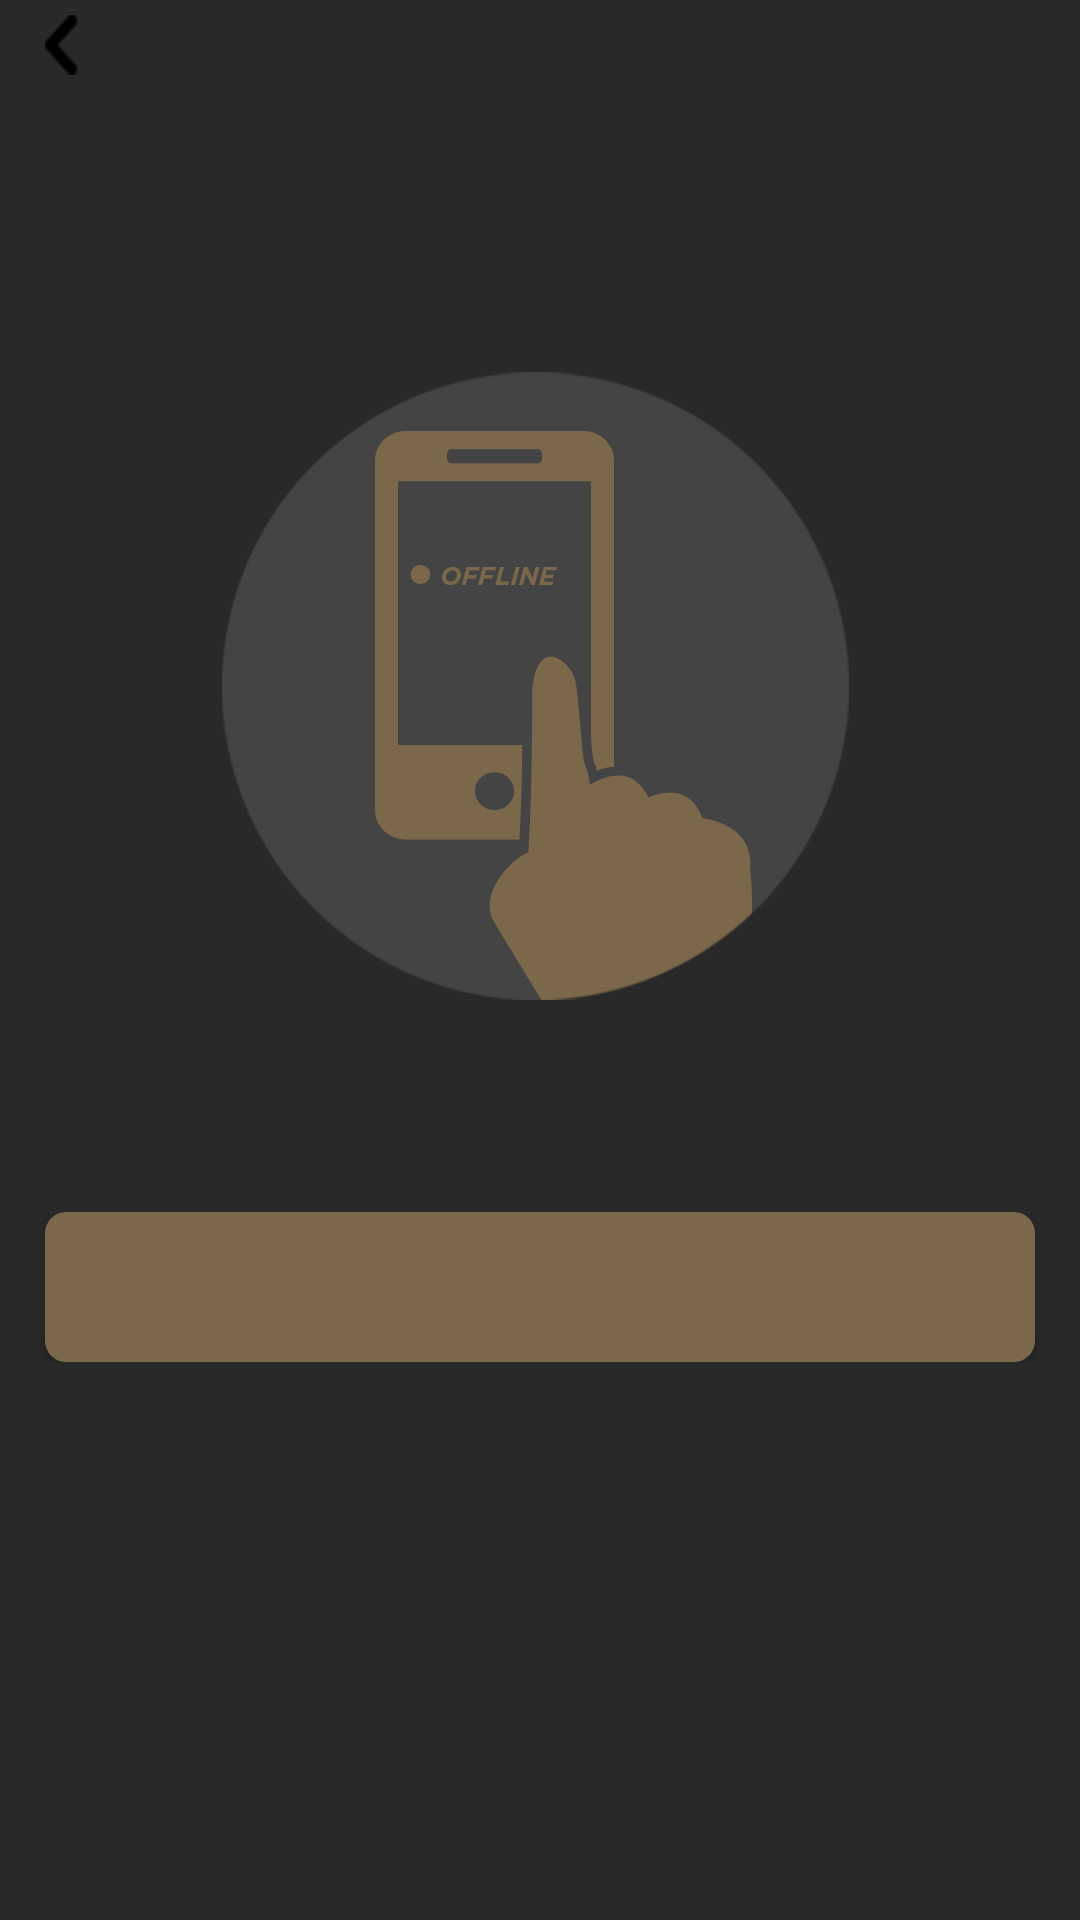

Named icons in this screenshot (1080×1920) and their bounding boxes, (x1, y1, x2, y2):
wolfpack back arrow: (45, 15, 77, 75)
